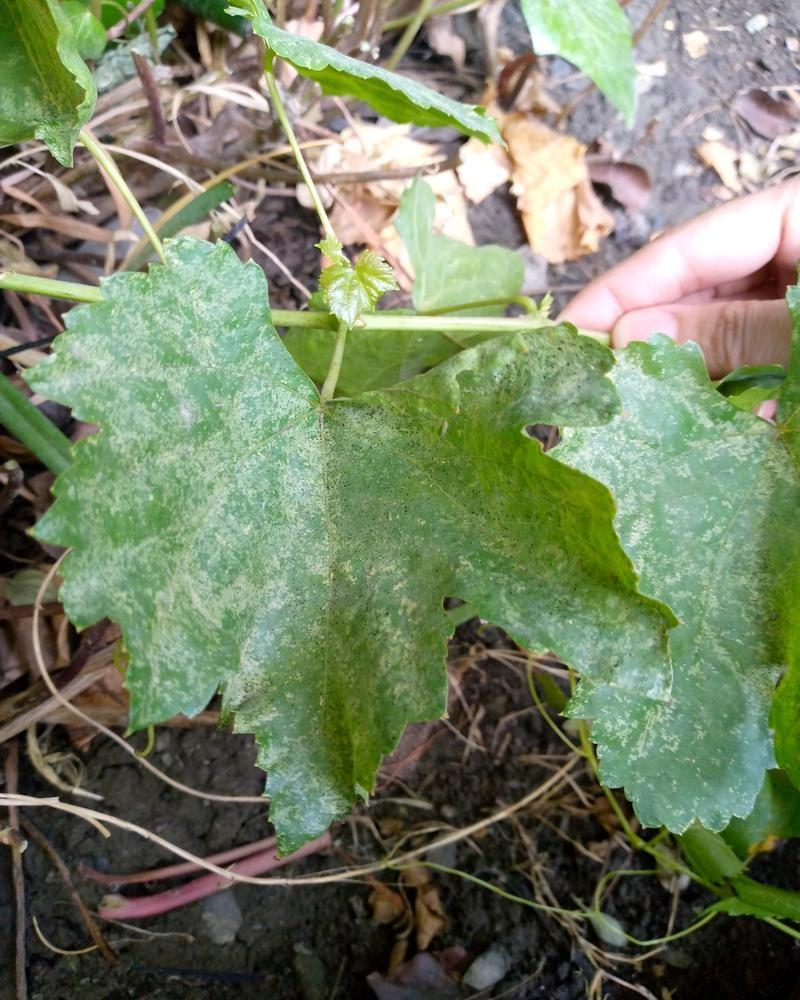Powdery-Mildew: (58, 421, 348, 694), (551, 341, 777, 634), (35, 240, 295, 449), (506, 590, 686, 761), (684, 656, 788, 836)
